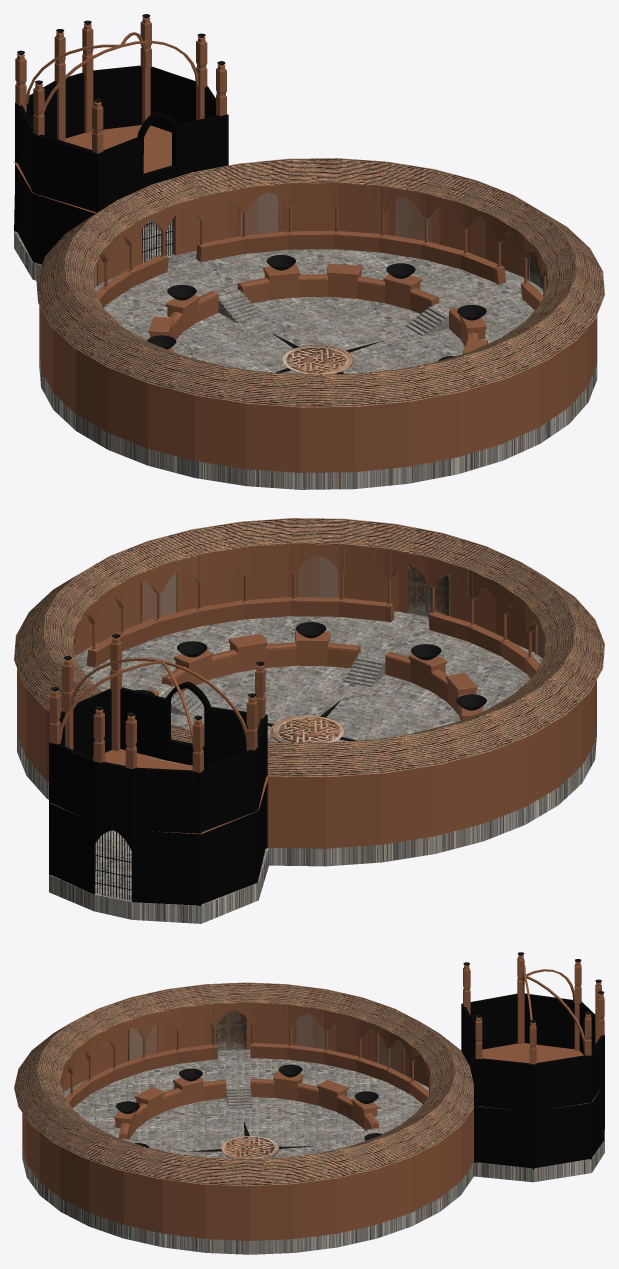
The model's file is arena (3).fbx.
3 renders of one model, top to bottom at view 1: azimuth 30°, elevation 25°; view 2: azimuth 150°, elevation 25°; view 3: azimuth 270°, elevation 25°, orthographic. The views are drawn at different scales.
Visible parts, largest first — view 1: Arena, Roof, Object002, Object005, Object006, Object007, Object003, windows, bowls, Object004, Object001, grid; view 2: Arena, Roof, Object002, Object006, Object005, Object007, Object003, windows, bowls, Object004, door2, Object001 (+1 smaller); view 3: Arena, Roof, Object002, Object005, Object006, Object003, Object007, windows, bowls, door, Object004, Object001.
Boxes of the visible parts, x1,y1,x2,y2 form: Arena: [14, 65, 597, 472]; Roof: [36, 158, 604, 407]; Object002: [14, 220, 597, 489]; Object005: [95, 230, 543, 353]; Object006: [93, 183, 547, 301]; Object007: [15, 17, 226, 153]; Object003: [149, 272, 485, 346]; windows: [93, 192, 431, 287]; bowls: [17, 14, 486, 373]; Object004: [282, 344, 353, 374]; Object001: [218, 293, 448, 336]; grid: [142, 219, 172, 262]; Arena: [17, 544, 596, 905]; Roof: [14, 518, 604, 776]; Object002: [17, 611, 596, 923]; Object006: [73, 544, 545, 659]; Object005: [86, 597, 539, 718]; Object007: [49, 637, 265, 832]; Object003: [148, 642, 476, 719]; windows: [143, 555, 544, 658]; bowls: [51, 622, 486, 741]; Object004: [270, 715, 343, 742]; door2: [408, 564, 449, 617]; Object001: [160, 656, 385, 715]; Arena: [22, 993, 604, 1240]; Roof: [14, 982, 473, 1186]; Object002: [22, 1049, 604, 1254]; Object005: [65, 1043, 428, 1121]; Object006: [60, 1002, 431, 1096]; Object003: [115, 1078, 378, 1139]; Object007: [463, 954, 604, 1064]; windows: [130, 1014, 401, 1072]; bowls: [116, 952, 604, 1151]; door: [211, 1010, 246, 1050]; Object004: [221, 1136, 279, 1159]; Object001: [127, 1087, 371, 1148].
Size of the model in its own units: 35182 by 44733 by 14337.
